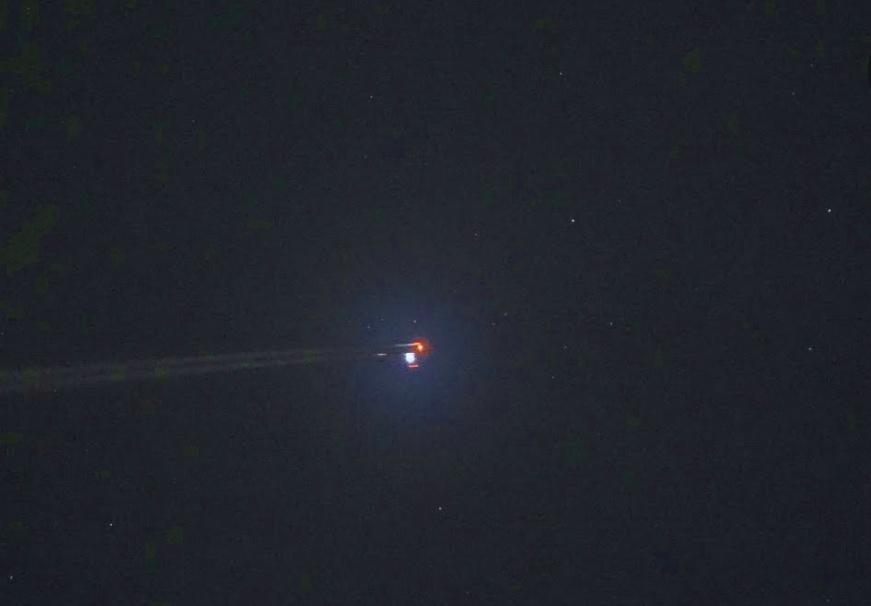Plane: (0, 326, 505, 399)
